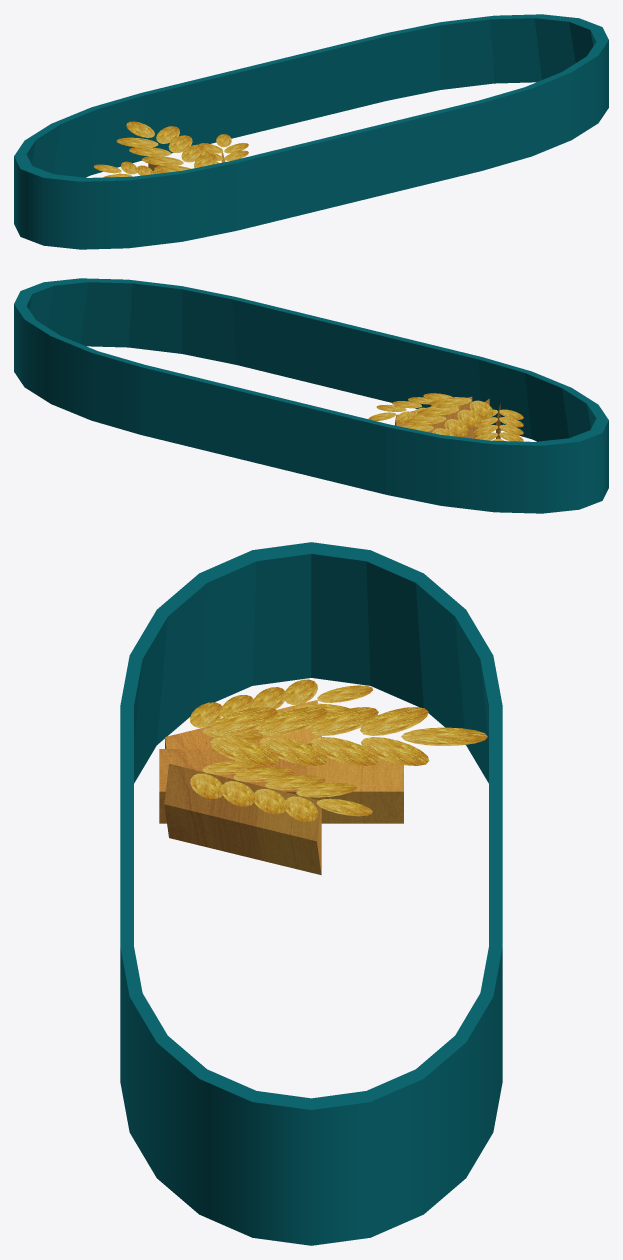
The model's file is UI Wheat Icon.fbx.
The picture shows the model from 3 angles, top to bottom: view 1: azimuth 30°, elevation 25°; view 2: azimuth 150°, elevation 25°; view 3: azimuth 270°, elevation 25°; orthographic projection. The views are drawn at different scales.
Visible parts, largest first — view 1: pCylinder6, Wheat1, Wheat2, Leaf_2, Leaf_9, Leaf_8, Leaf_1; view 2: pCylinder6, Wheat1, Wheat2, Leaf_6, Leaf_1; view 3: pCylinder6, Wheat1, Stem, Wheat2, Leaf_8, Leaf_2, Leaf_6, Leaf_1, Leaf_4, Leaf_5, Leaf_3, Leaf_9 (+1 smaller).
Part boxes in pixels (x1,y1,x2,y2): pCylinder6: [14, 14, 608, 249]; Wheat1: [199, 134, 248, 163]; Wheat2: [93, 161, 161, 177]; Leaf_2: [116, 137, 158, 147]; Leaf_9: [129, 147, 170, 156]; Leaf_8: [126, 121, 154, 137]; Leaf_1: [142, 156, 183, 165]; pCylinder6: [14, 278, 608, 513]; Wheat1: [368, 393, 472, 432]; Wheat2: [473, 403, 523, 441]; Leaf_6: [429, 397, 471, 406]; Leaf_1: [457, 409, 480, 427]; pCylinder6: [120, 542, 502, 1245]; Wheat1: [164, 760, 372, 875]; Stem: [159, 749, 403, 823]; Wheat2: [165, 679, 372, 748]; Leaf_8: [401, 727, 487, 745]; Leaf_2: [360, 707, 428, 735]; Leaf_6: [210, 737, 278, 765]; Leaf_1: [259, 707, 327, 735]; Leaf_4: [361, 737, 429, 765]; Leaf_5: [311, 737, 379, 765]; Leaf_3: [260, 737, 328, 765]; Leaf_9: [310, 707, 378, 735].
Bounding box in the file's own units: 27.71 × 3.09 × 7.89.
Materials: 3 (2 with a texture image).
